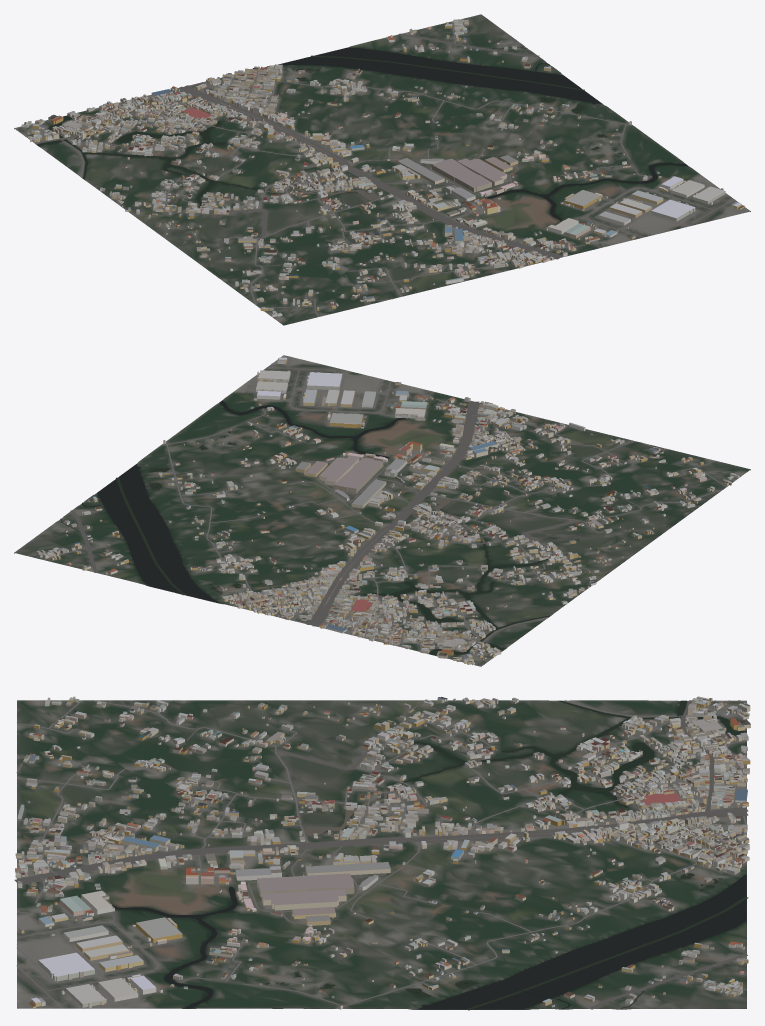
3 renders of one model, top to bottom at view 1: azimuth 30°, elevation 25°; view 2: azimuth 150°, elevation 25°; view 3: azimuth 270°, elevation 25°, orthographic. The views are drawn at different scales.
Visible parts, largest first — view 1: ground, buildings, water, roads; view 2: ground, buildings, water, roads; view 3: ground, buildings, water, roads.
Part boxes in pixels (x1,y1,x2,y2): ground: (14, 14, 750, 325); buildings: (21, 19, 744, 317); water: (37, 47, 687, 221); roads: (15, 21, 743, 316); ground: (14, 355, 750, 666); buildings: (36, 357, 739, 665); water: (60, 400, 550, 655); roads: (43, 356, 726, 666); ground: (17, 700, 746, 1009); buildings: (15, 696, 750, 1009); water: (112, 700, 748, 1010); roads: (14, 700, 748, 1009).
Bounding box in the file's own units: 1410 × 23.5 × 1414.
